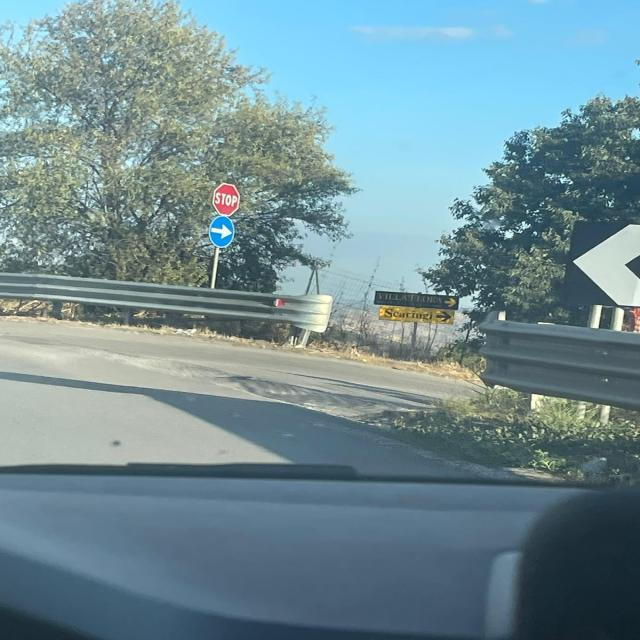prio_stop: (212, 183, 240, 217)
